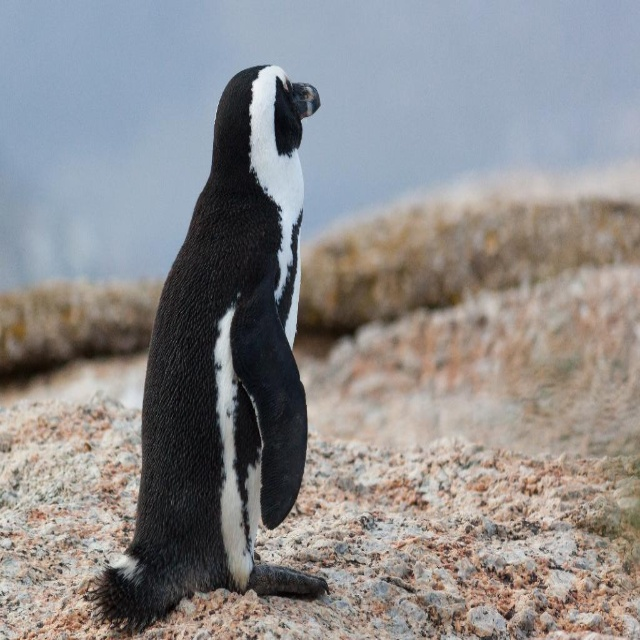Penguin: (82, 64, 332, 639)
